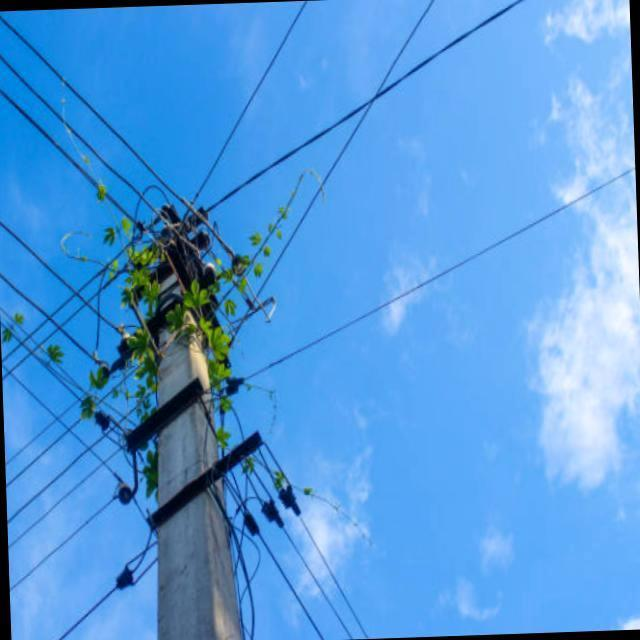critical vegetation: (88, 159, 274, 487)
